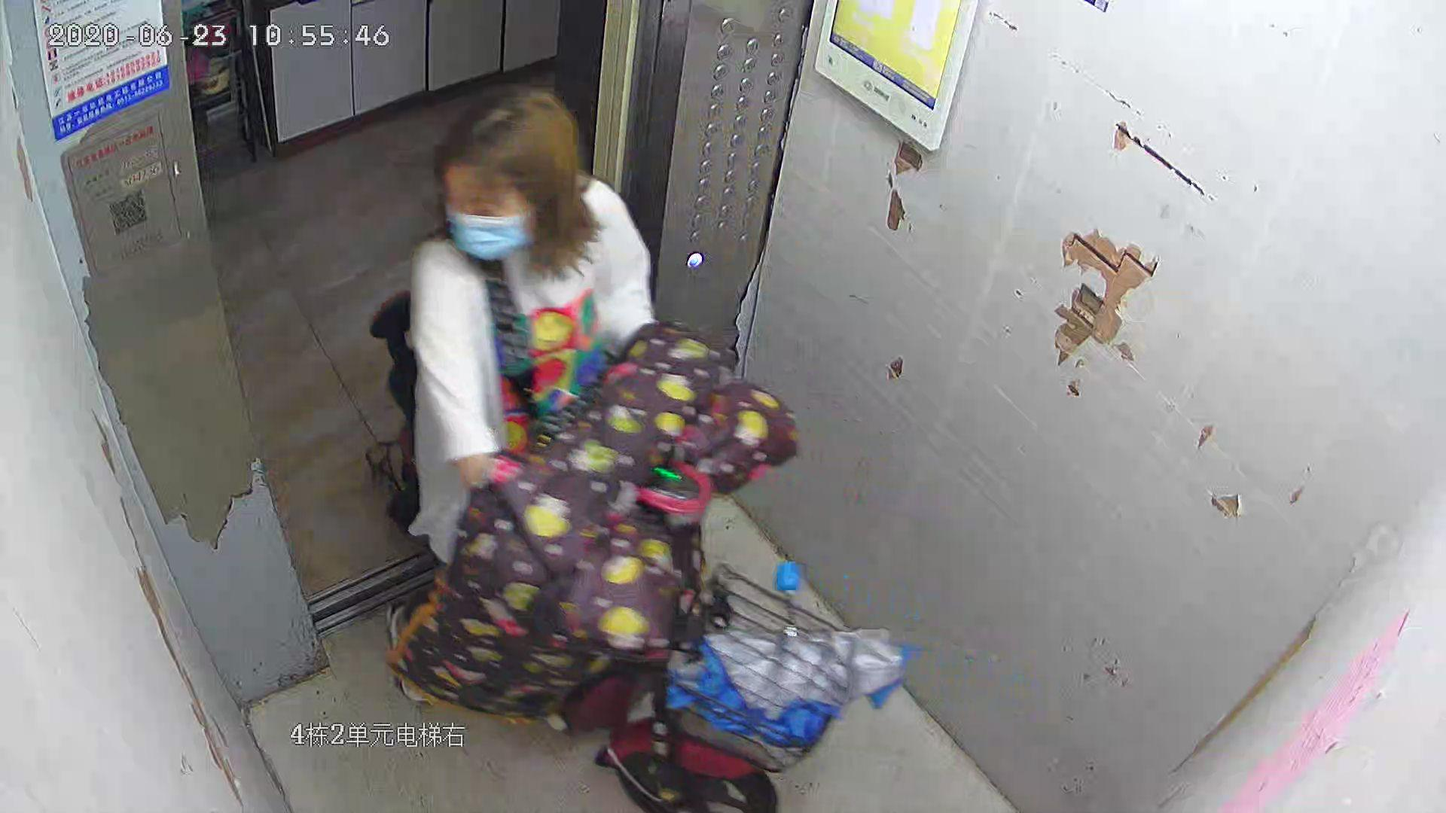Electric-bicycle: (365, 291, 828, 812)
